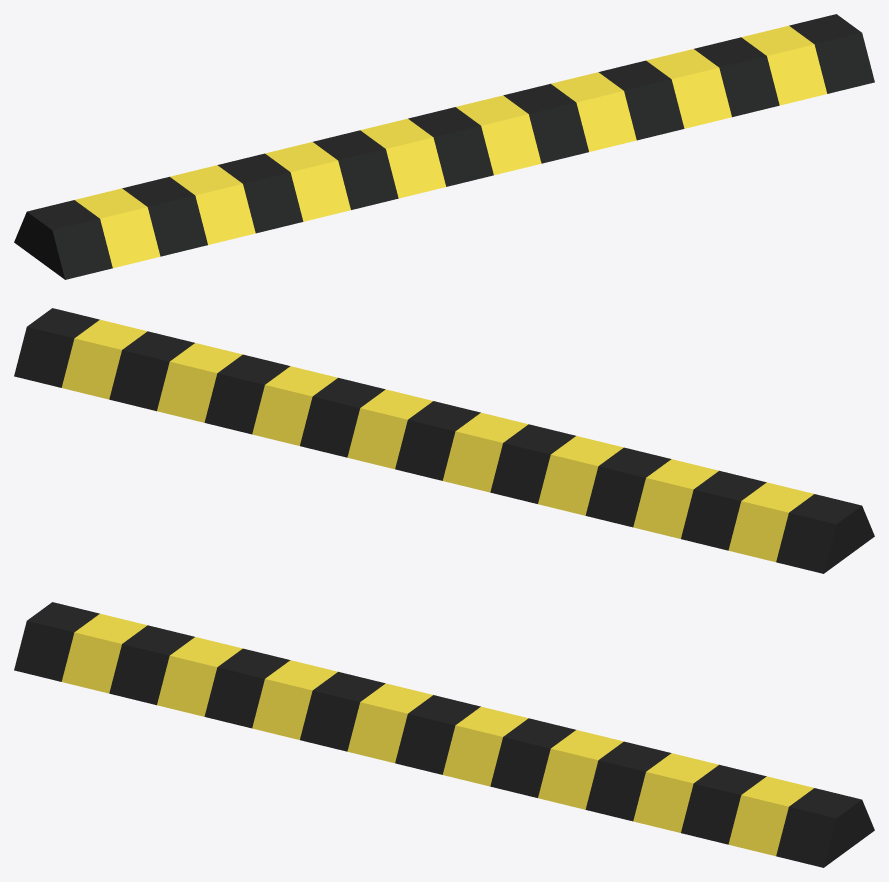
Rendered from Road_Objects_Bump.fbx.
3 renders of one model, top to bottom at view 1: azimuth 30°, elevation 25°; view 2: azimuth 150°, elevation 25°; view 3: azimuth 330°, elevation 25°, orthographic.
Parts seen in each view (by area): view 1: Road_Objects_Bump; view 2: Road_Objects_Bump; view 3: Road_Objects_Bump.
Part boxes in pixels (<box>): Road_Objects_Bump: <box>14,14,874,279</box>; Road_Objects_Bump: <box>14,308,874,573</box>; Road_Objects_Bump: <box>14,602,874,867</box>.
Size of the model in its own units: 274 by 13.02 by 30.06.
